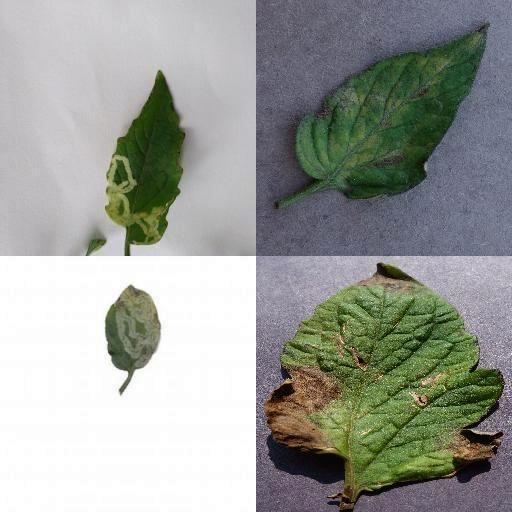Late Blight: (265, 264, 505, 496)
Leaf Miner: (102, 72, 188, 246), (106, 284, 163, 372)
Leaf Mold: (296, 20, 490, 200)
